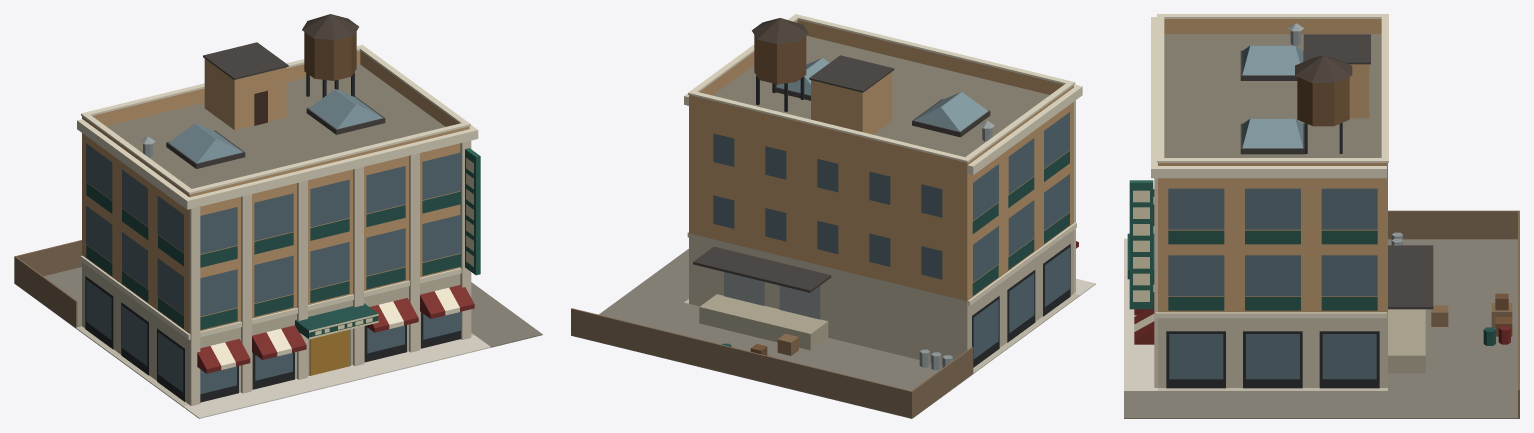
Rendered from store_n.glb.
3 views of the same model, side by side, from view 1: azimuth 30°, elevation 25°; view 2: azimuth 150°, elevation 25°; view 3: azimuth 270°, elevation 25° (orthographic). The views are drawn at different scales.
Parts seen in each view (by area): view 1: store_n; view 2: store_n; view 3: store_n.
Part boxes in pixels (x1,y1,x2,y2): store_n: (14, 14, 542, 418); store_n: (571, 14, 1095, 418); store_n: (1124, 14, 1519, 418).
Bounding box in the file's own units: 30 × 23.53 × 28.
